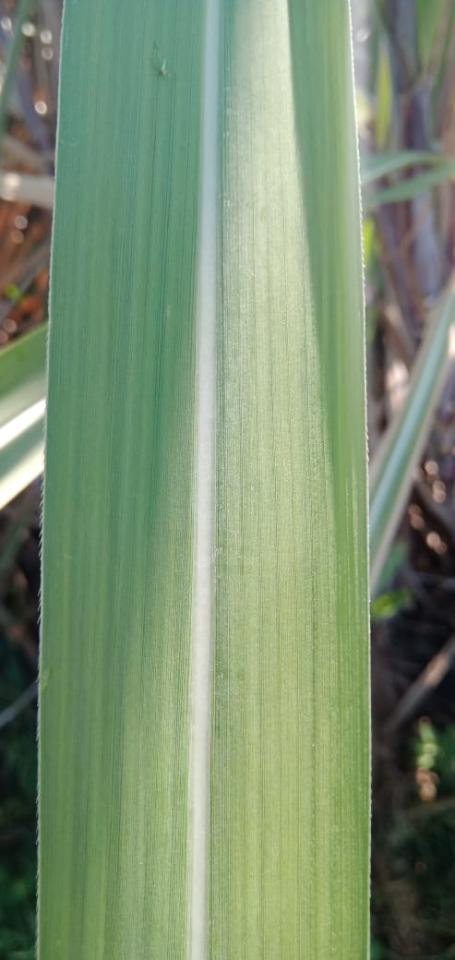Healthy: (38, 0, 369, 959)
